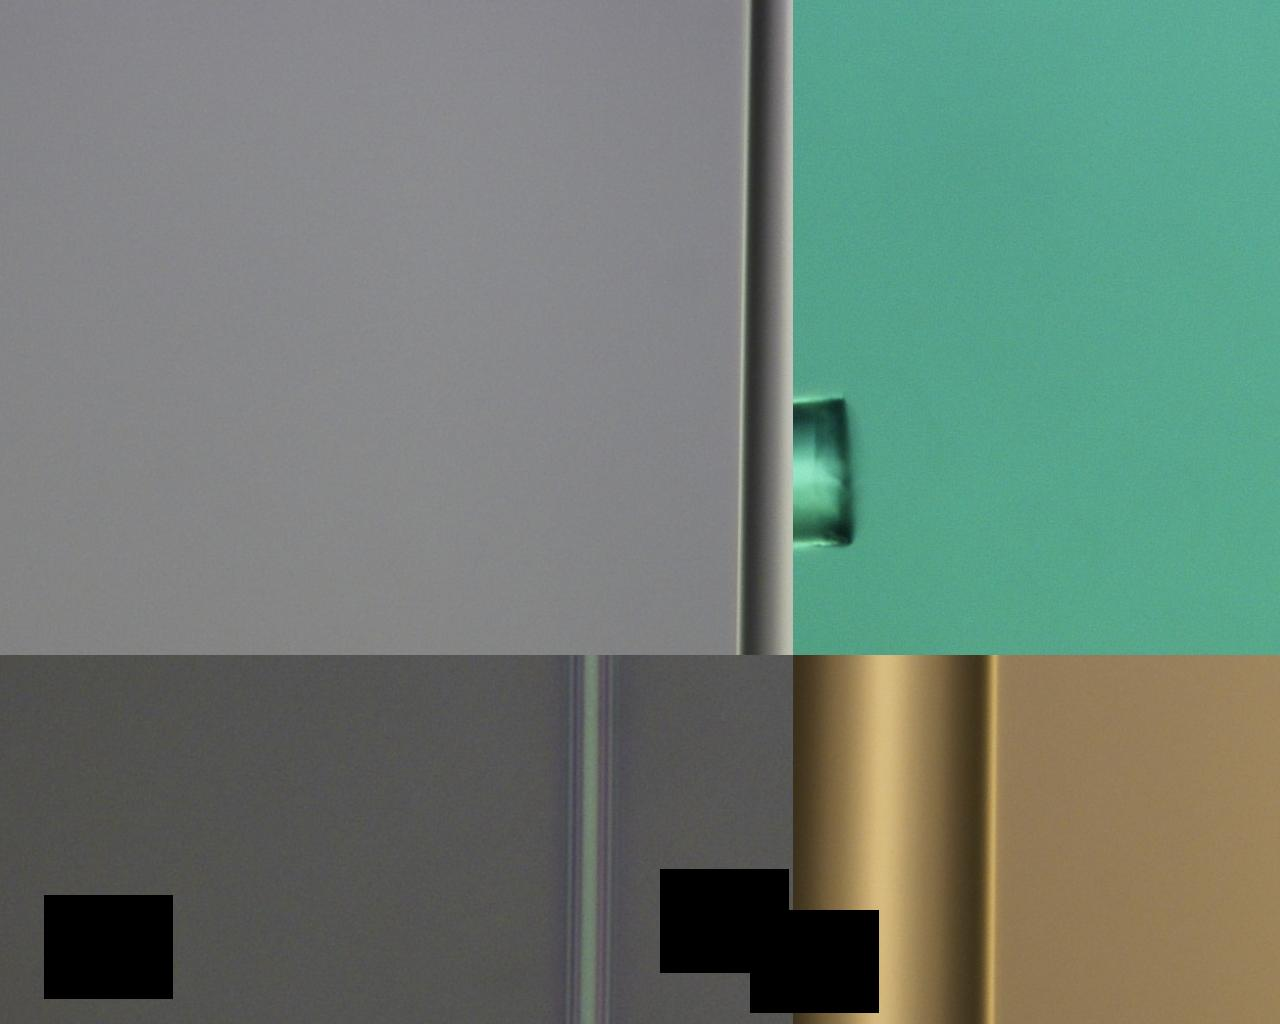fiber: (0, 317, 640, 686), (998, 686, 1280, 1024), (0, 916, 640, 994)
